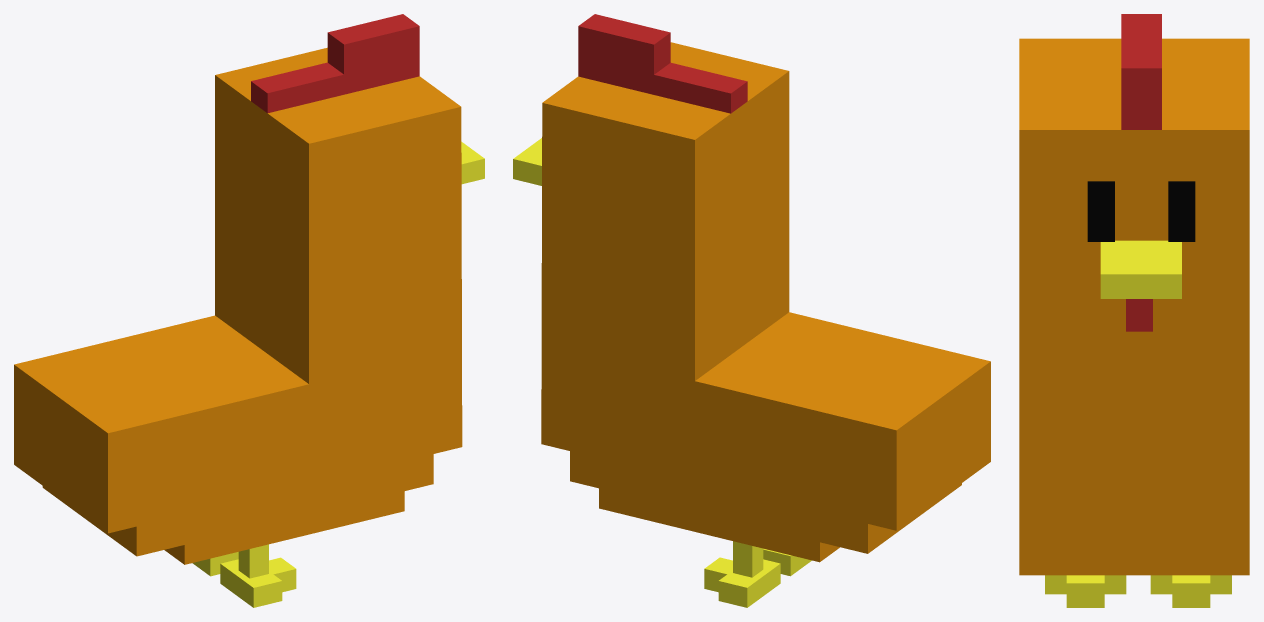
File: shapr3d_export_2026-08-25_21h46m.glb
3 renders of one model, left to right at view 1: azimuth 30°, elevation 25°; view 2: azimuth 150°, elevation 25°; view 3: azimuth 270°, elevation 25°, orthographic. The views are drawn at different scales.
Size of the model in its own units: 0.0428 by 0.051 by 0.017.
